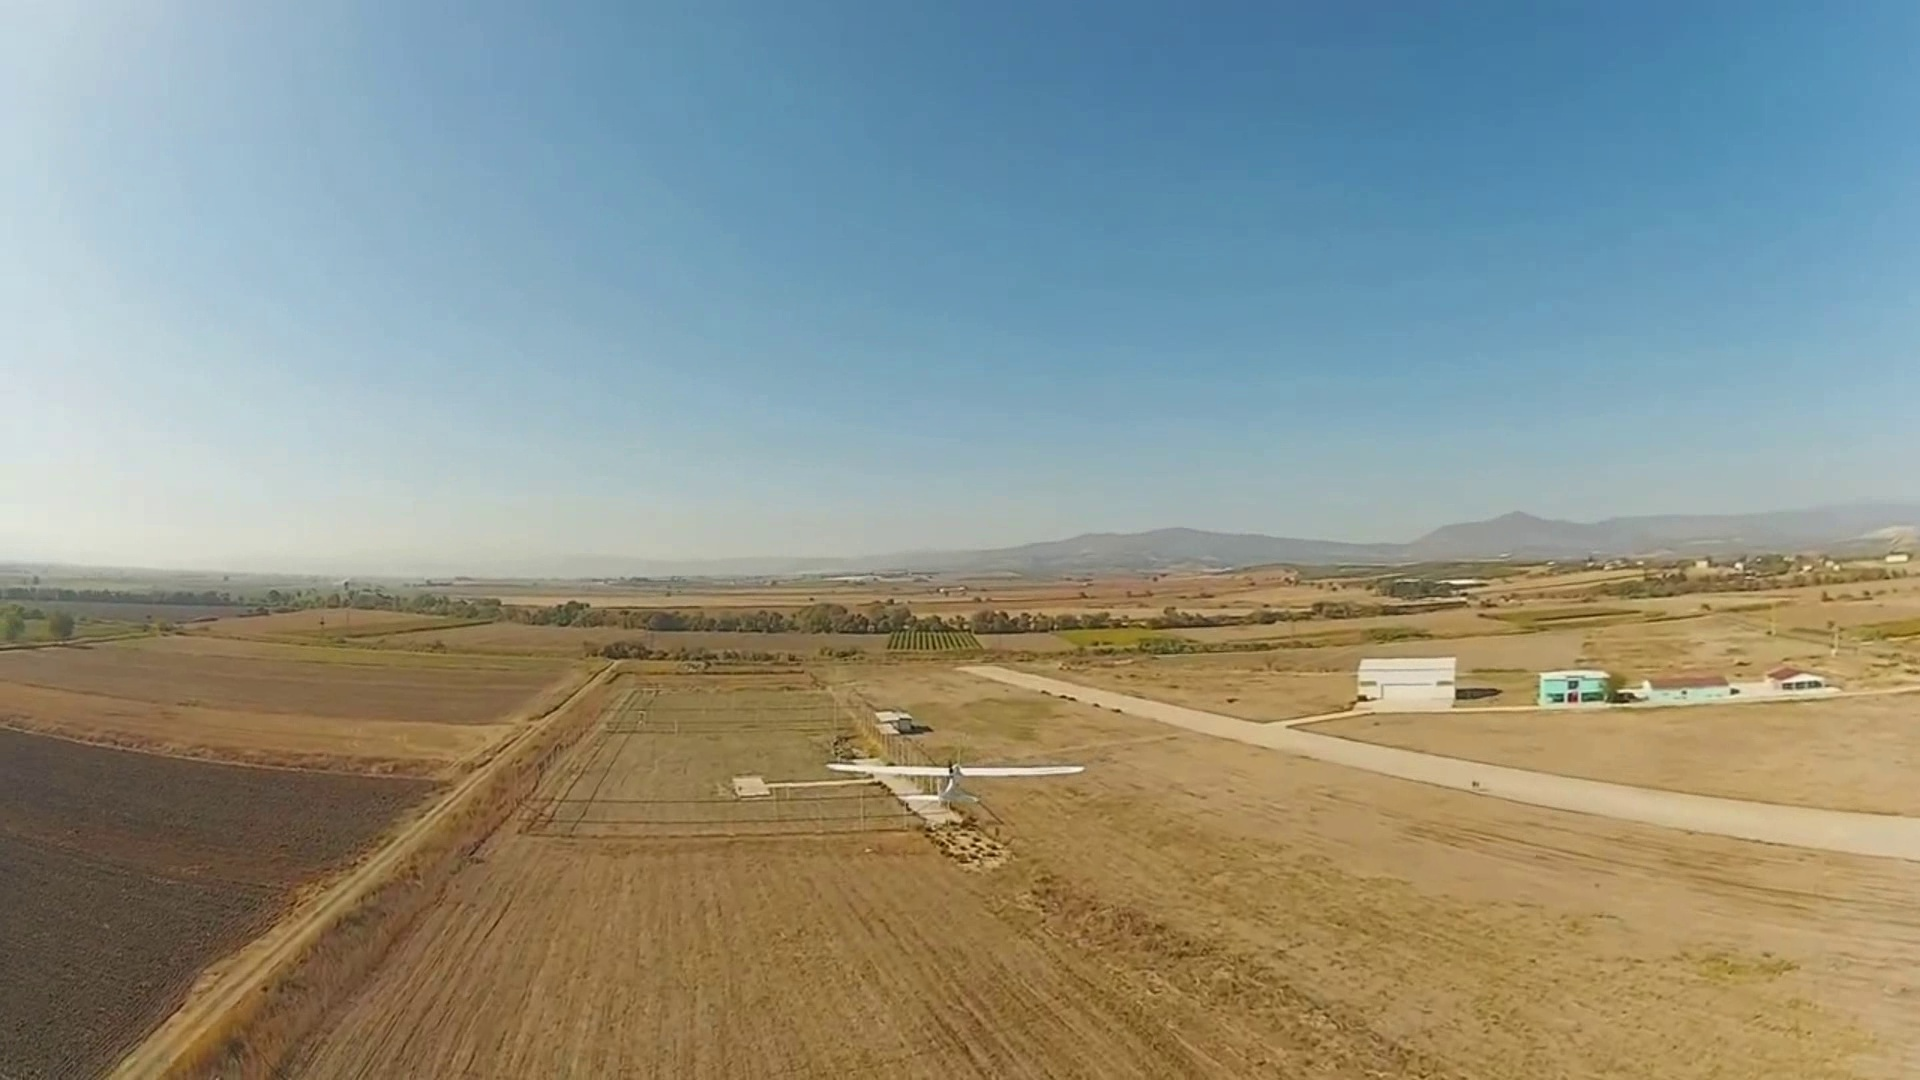airplane: (826, 706, 1090, 855)
